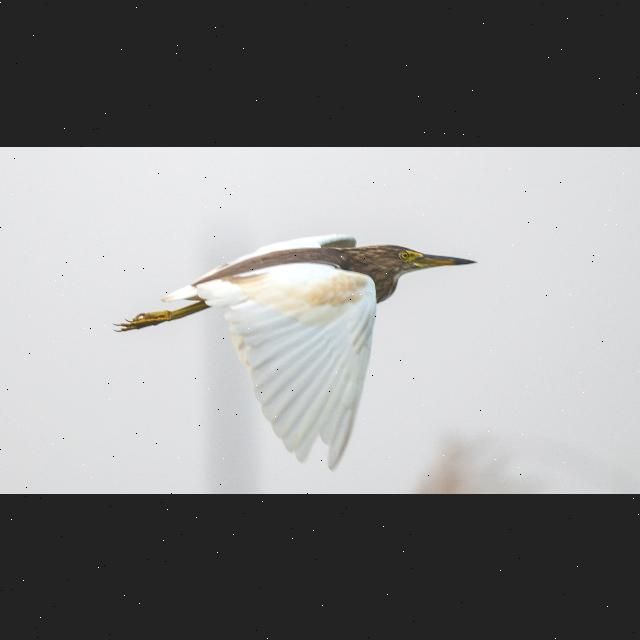heron: (105, 223, 487, 472)
